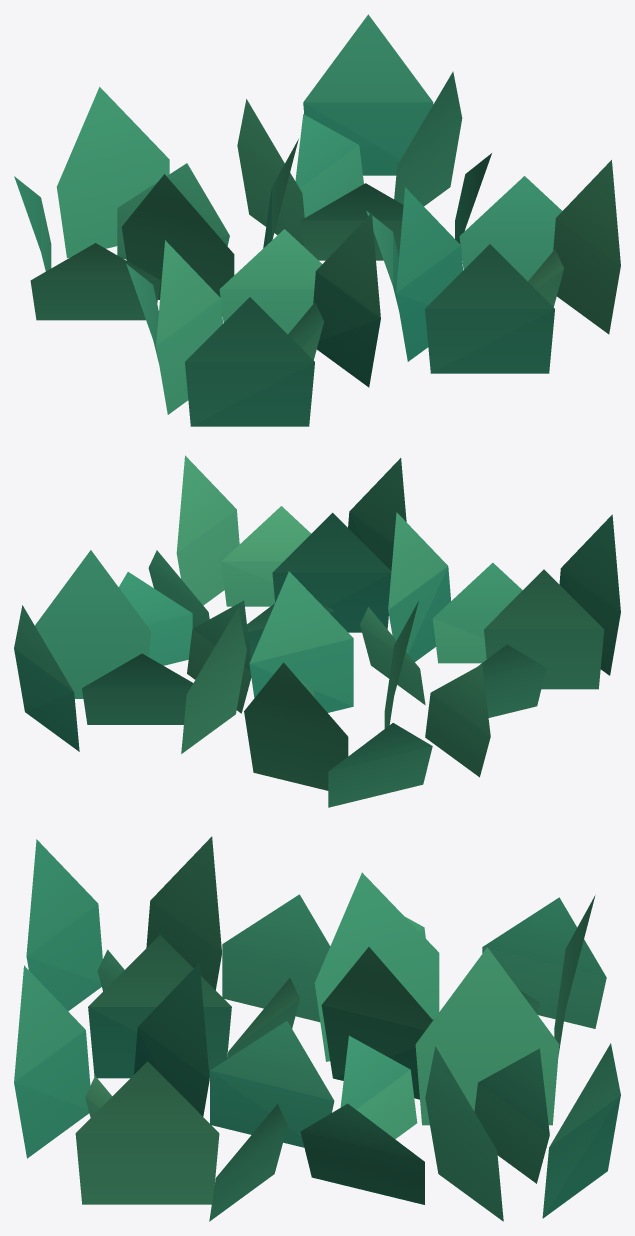
File: grass-large.glb
The picture shows the model from 3 angles, top to bottom: view 1: azimuth 30°, elevation 25°; view 2: azimuth 150°, elevation 25°; view 3: azimuth 270°, elevation 25°; orthographic projection. The views are drawn at different scales.
Parts seen in each view (by area): view 1: c41ab7b, c3ca579, c47b17e, c329c74, c2e9772, c37a177, c29926f, c4cb581, c50ba83, c248d6d, c55bf85; view 2: c3ca579, c41ab7b, c47b17e, c329c74, c37a177, c29926f, c4cb581, c50ba83, c55bf85, c2e9772, c248d6d; view 3: c3ca579, c47b17e, c329c74, c41ab7b, c37a177, c29926f, c4cb581, c2e9772, c50ba83.
Part boxes in pixels (x1,y1,x2,y2): c41ab7b: (30, 86, 323, 414); c3ca579: (41, 14, 562, 361); c47b17e: (31, 99, 563, 360); c329c74: (185, 175, 554, 426); c2e9772: (191, 102, 554, 426); c37a177: (14, 114, 491, 361); c29926f: (263, 102, 462, 387); c4cb581: (536, 218, 620, 334); c50ba83: (556, 160, 620, 265); c248d6d: (396, 293, 428, 361); c55bf85: (528, 249, 563, 289); c3ca579: (14, 458, 546, 807); c41ab7b: (244, 563, 604, 790); c47b17e: (181, 512, 603, 753); c329c74: (146, 512, 620, 706); c37a177: (82, 514, 620, 771); c29926f: (25, 566, 450, 751); c4cb581: (176, 509, 282, 605); c50ba83: (176, 455, 236, 552); c55bf85: (221, 506, 311, 561); c2e9772: (14, 512, 609, 711); c248d6d: (328, 574, 391, 632); c3ca579: (14, 894, 620, 1221); c47b17e: (88, 836, 559, 1139); c329c74: (14, 904, 425, 1204); c41ab7b: (97, 872, 595, 1061); c37a177: (26, 839, 606, 1161); c29926f: (88, 1007, 620, 1218); c4cb581: (75, 1097, 219, 1204); c2e9772: (14, 956, 620, 1218); c50ba83: (76, 1061, 218, 1133).
Bounding box in the file's own units: 0.4759 × 0.1425 × 0.4873.
